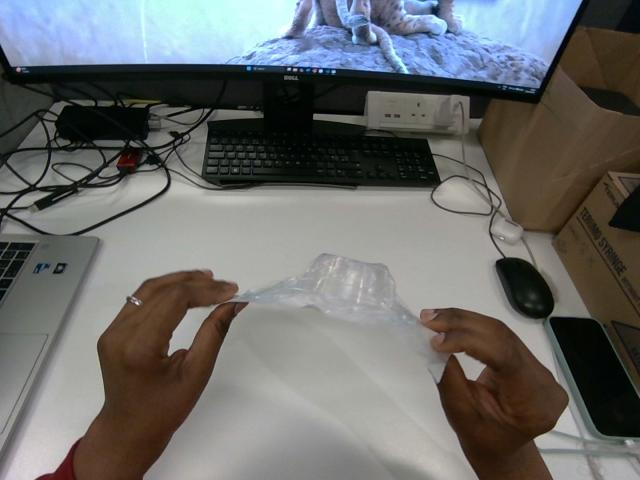gallipot: (233, 254, 448, 381)
